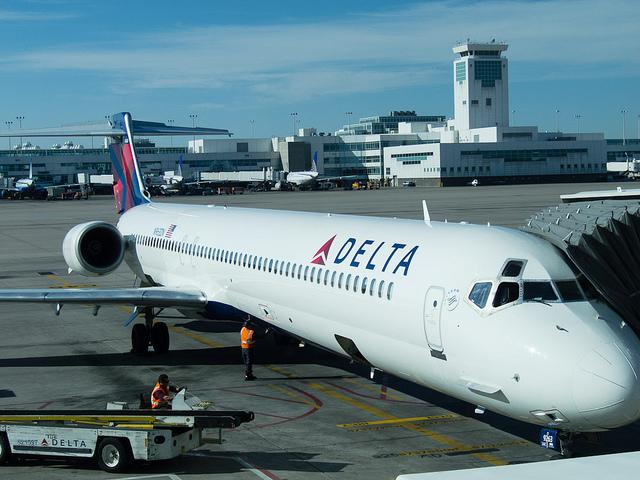Airplane: (3, 113, 640, 432), (0, 158, 89, 200), (286, 151, 359, 193), (160, 154, 224, 190)
